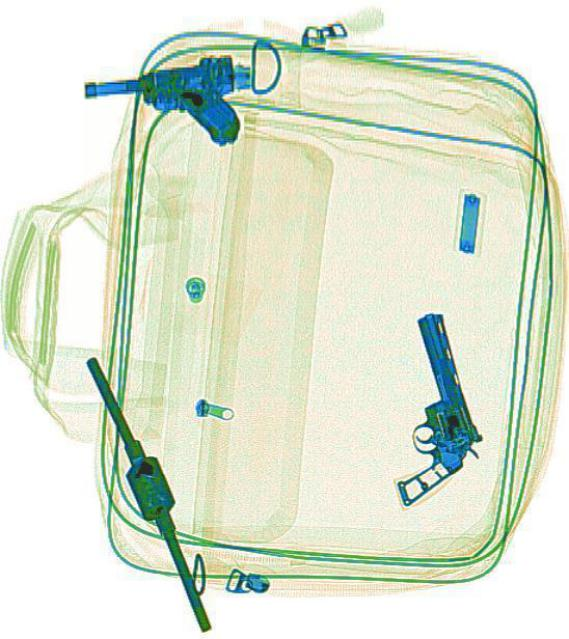Gun: (352, 306, 493, 507), (79, 52, 241, 160)
